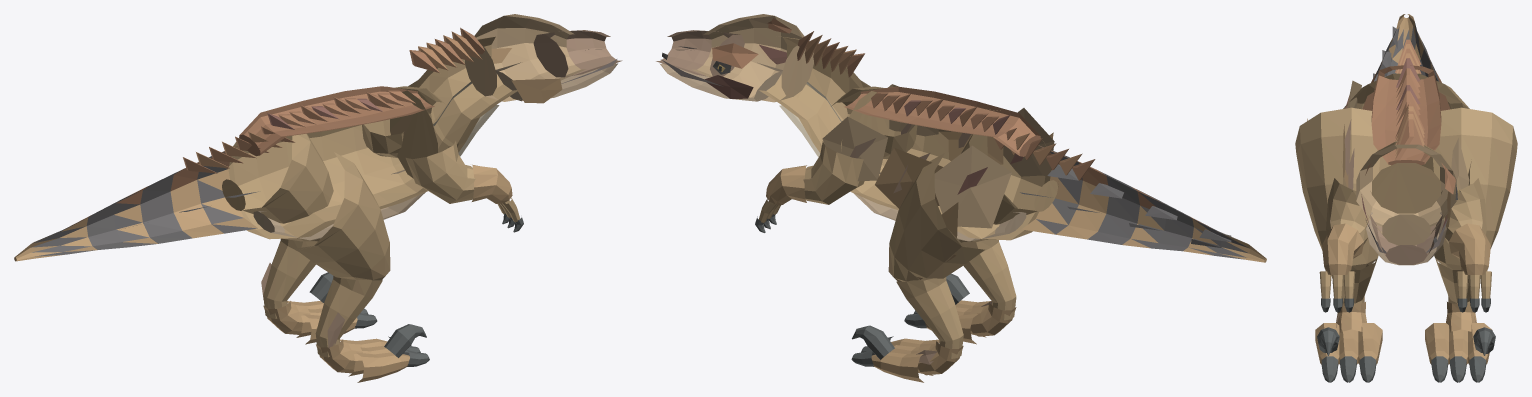
The model's file is varrisco-v01-anatomy-blockout.glb.
3 views of the same model, side by side, from view 1: azimuth 30°, elevation 25°; view 2: azimuth 150°, elevation 25°; view 3: azimuth 270°, elevation 25° (orthographic). The views are drawn at different scales.
Visible parts, largest first — view 1: Varrisco_Static_Anatomy; view 2: Varrisco_Static_Anatomy; view 3: Varrisco_Static_Anatomy.
Part boxes in pixels (x1,y1,x2,y2): Varrisco_Static_Anatomy: (14,14,622,382); Varrisco_Static_Anatomy: (656,14,1266,382); Varrisco_Static_Anatomy: (1295,14,1517,382).
Bounding box in the file's own units: 3.08 × 1.43 × 0.9463.
